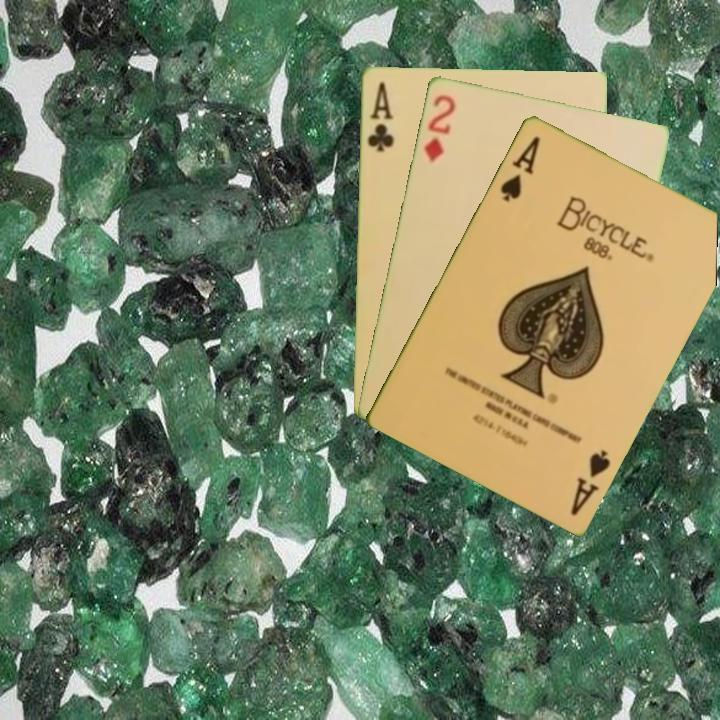2d: (420, 90, 458, 164)
Ac: (364, 77, 396, 154)
As: (566, 445, 613, 518), (496, 132, 543, 204)
